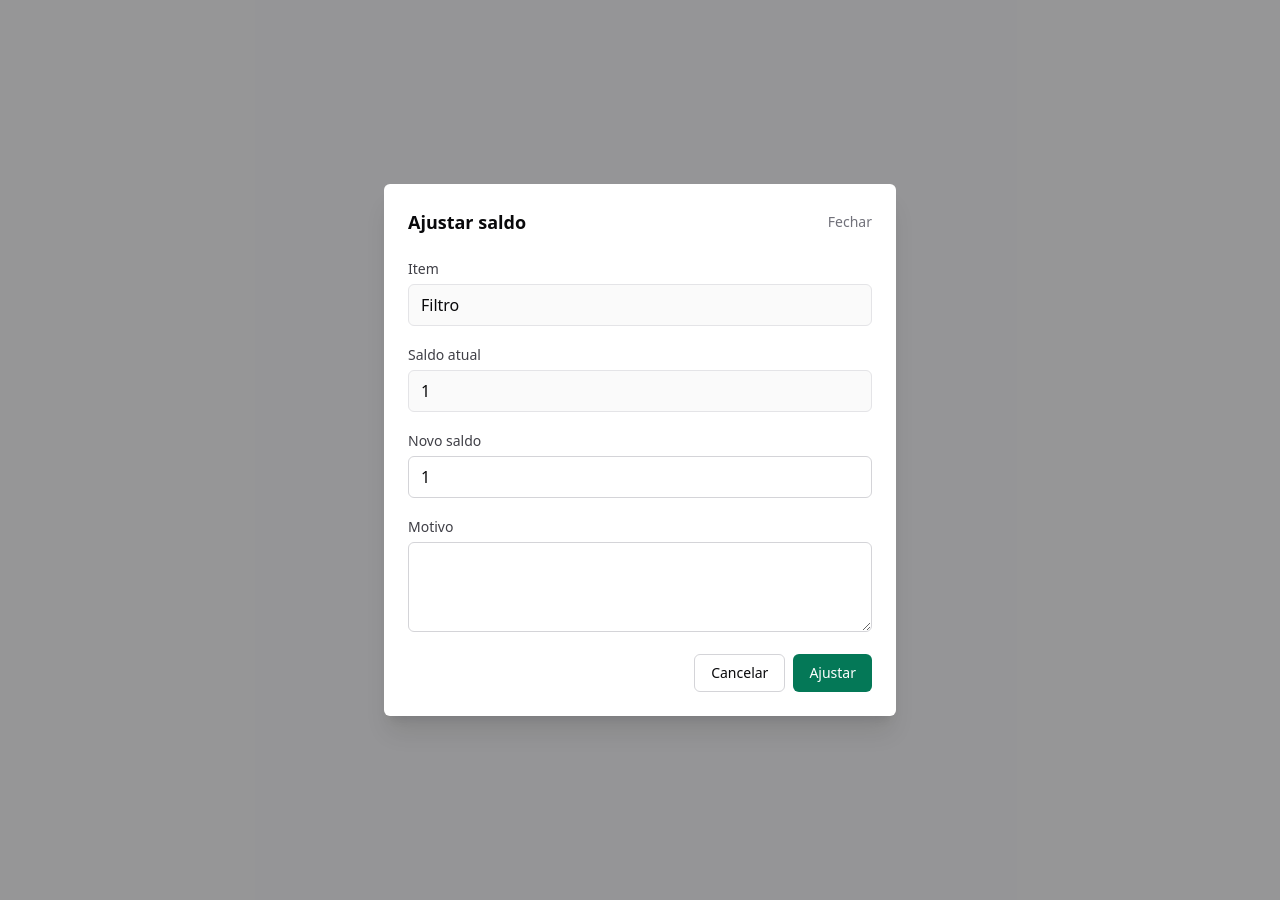
Test case: RegistrarAjusteModal › valida novo saldo negativo
Replace the text in the number field labelled "Novo saldo" with "-1" at x=640, y=477, box [408,456,872,498]
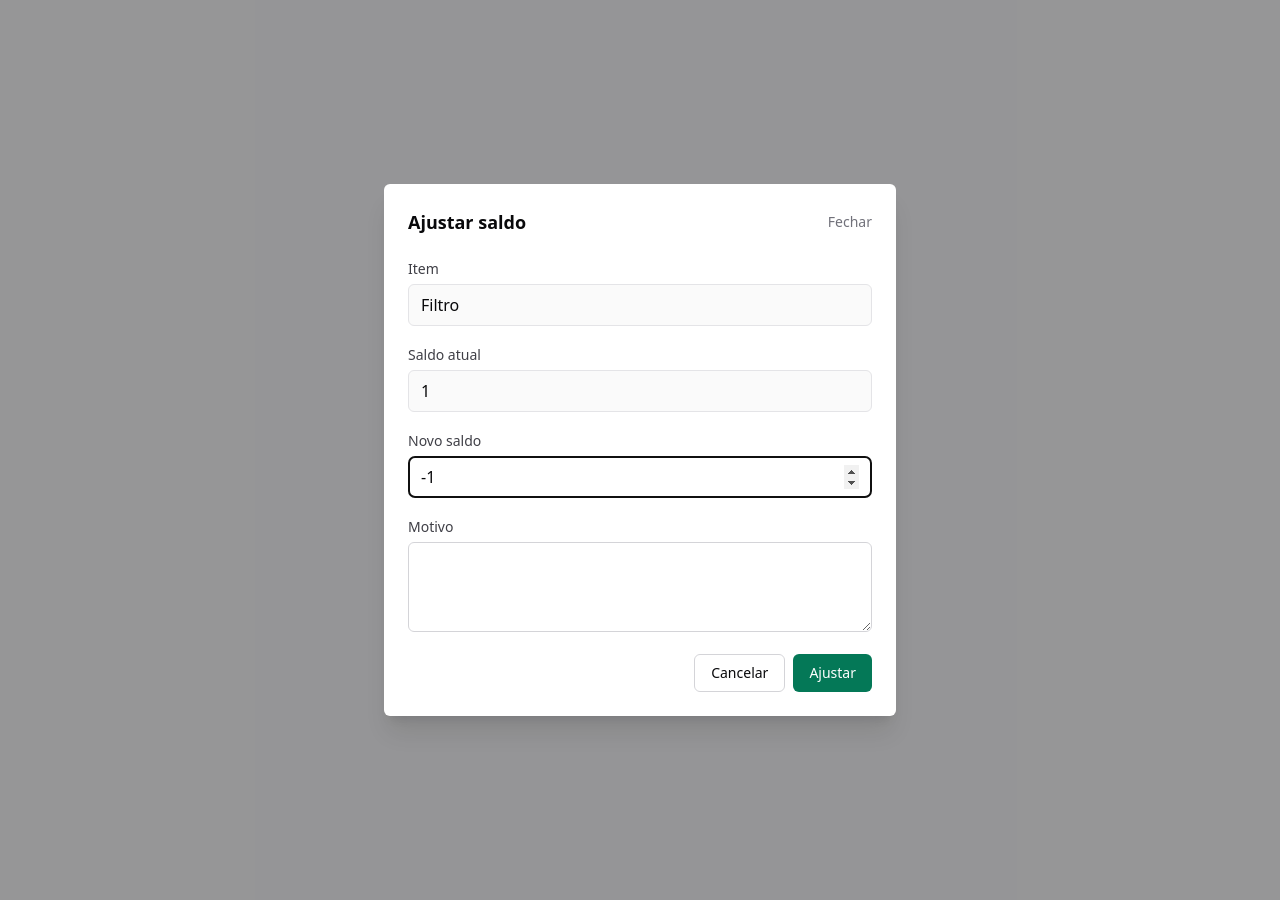
Click the button "Ajustar" at x=833, y=673, box [793,654,872,692]
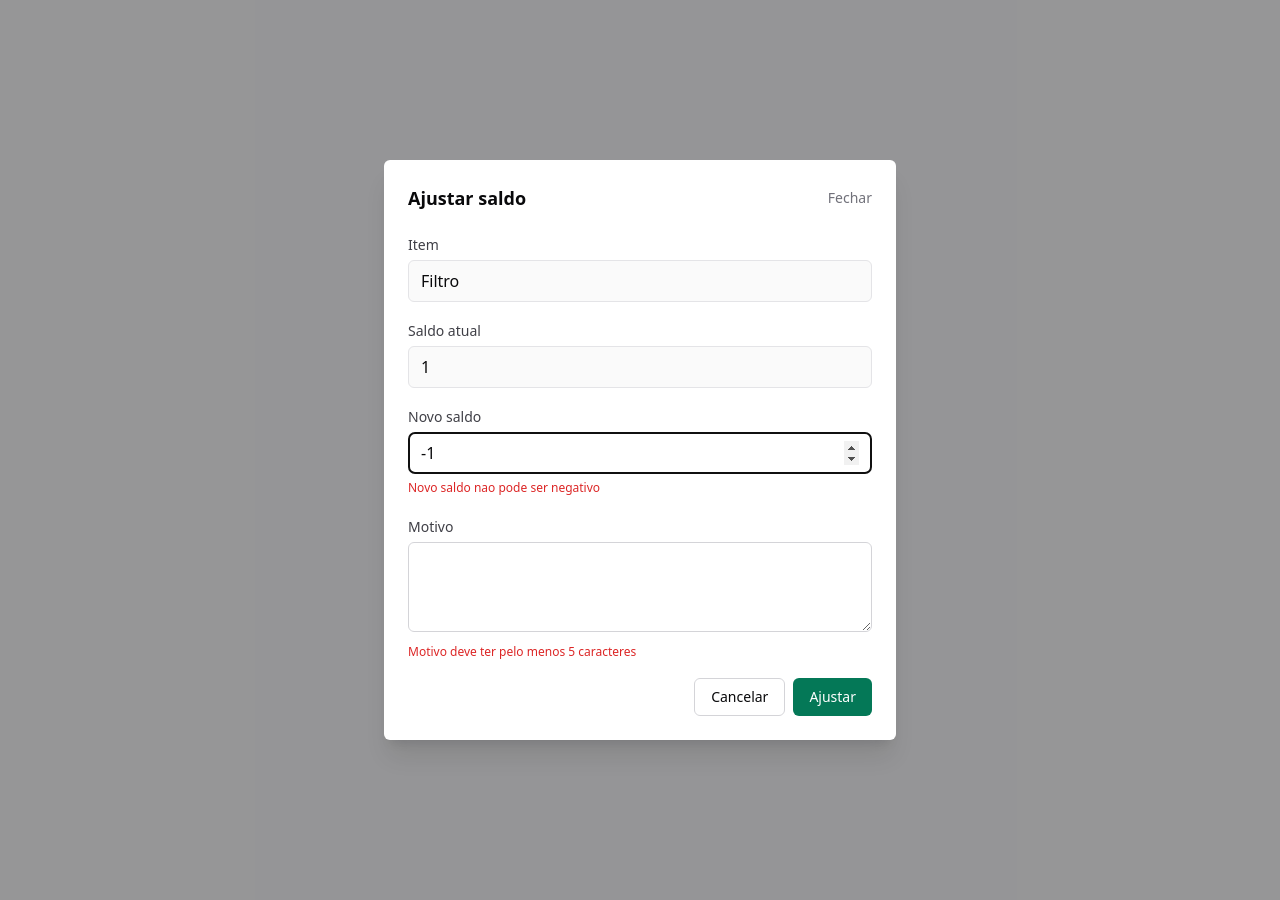
Expected: the text "Novo saldo nao pode ser negativo" is shown, [408,479,600,496]
